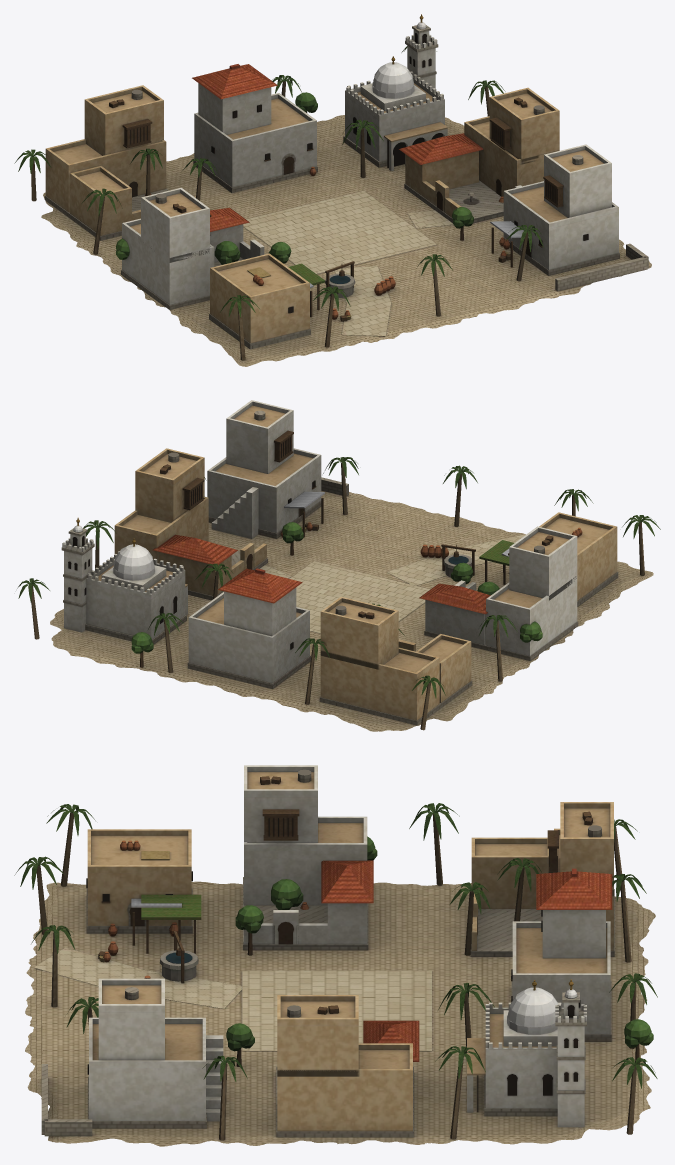
The model's file is kingdoms-town-small-b.glb.
3 renders of one model, top to bottom at view 1: azimuth 30°, elevation 25°; view 2: azimuth 150°, elevation 25°; view 3: azimuth 270°, elevation 25°, orthographic. The views are drawn at different scales.
Parts seen in each view (by area): view 1: LOD0; view 2: LOD0; view 3: LOD0.
Boxes of the visible parts, x1,y1,x2,y2 form: LOD0: [14, 14, 651, 366]; LOD0: [17, 400, 660, 731]; LOD0: [14, 765, 657, 1146].
Size of what is drawn, in the model's own units: 4.1 by 1.02 by 4.09.
3 materials, 3 textured.
